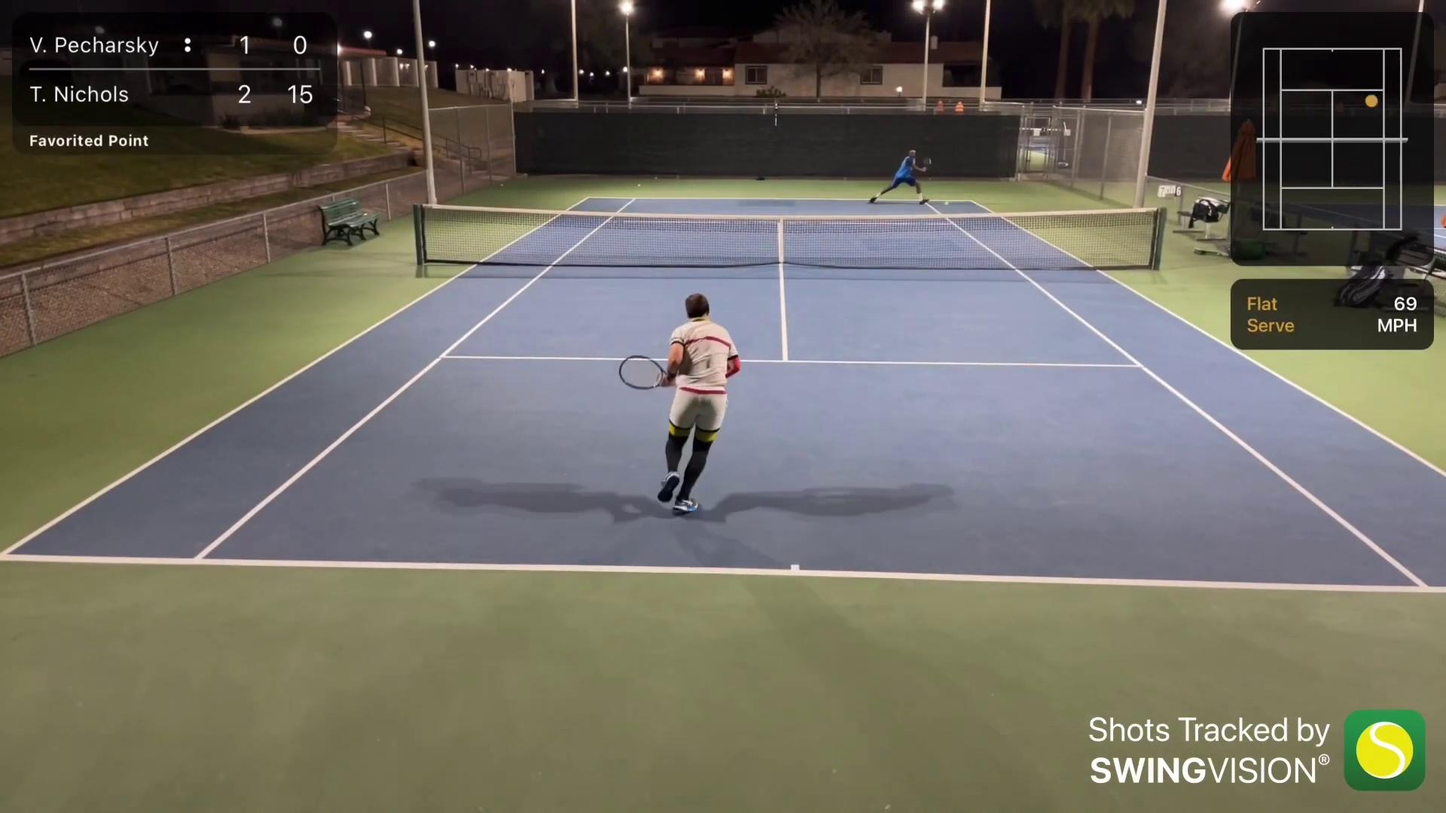ball: (943, 199, 950, 206)
